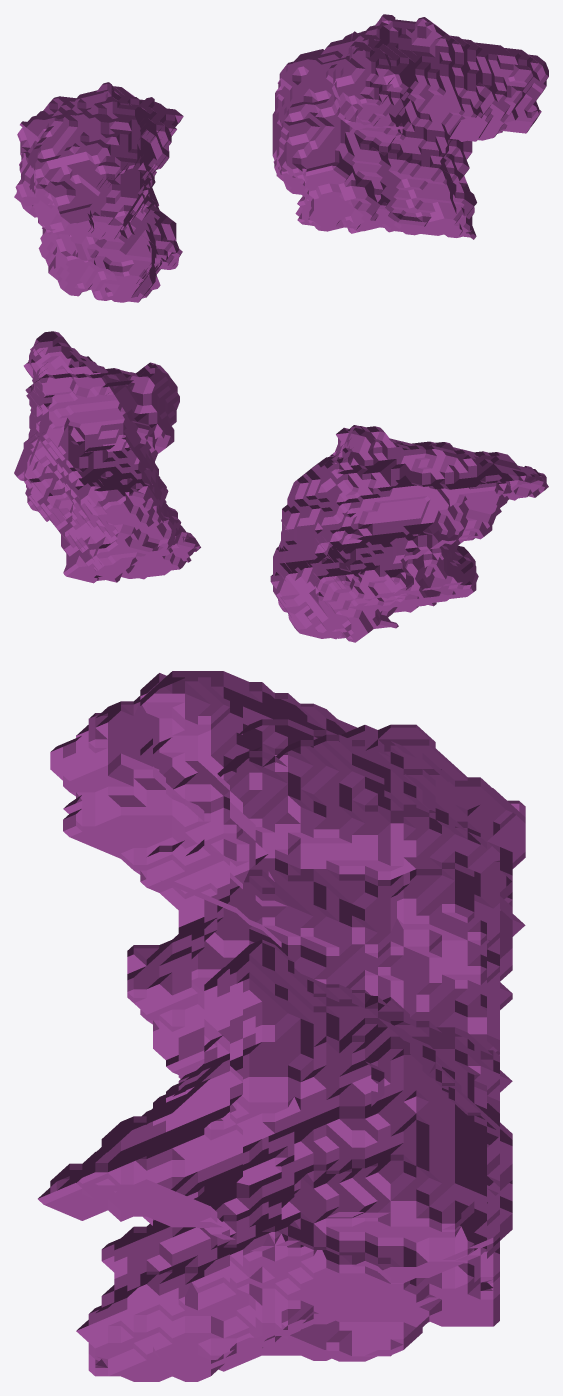
Rendered from region_0181_Vmd__trigeminal_motor_nucleus__dorsal_part_.glb.
The picture shows the model from 3 angles, top to bottom: view 1: azimuth 30°, elevation 25°; view 2: azimuth 150°, elevation 25°; view 3: azimuth 270°, elevation 25°; orthographic projection. The views are drawn at different scales.
Parts seen in each view (by area): view 1: world; view 2: world; view 3: world.
Part boxes in pixels (x1,y1,x2,y2): world: [14, 14, 548, 302]; world: [14, 331, 548, 642]; world: [38, 671, 525, 1381].
Size of the model in its own units: 0.736 by 0.264 by 0.304.
